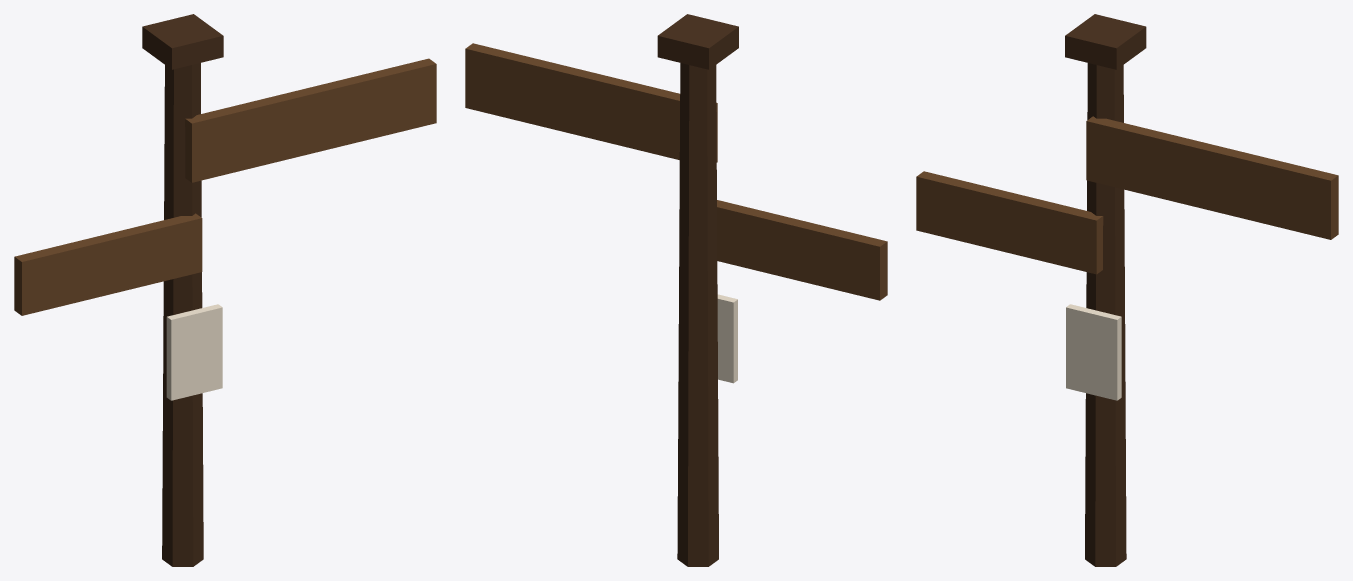
Rendered from prop_signpost.glb.
3 renders of one model, left to right at view 1: azimuth 30°, elevation 25°; view 2: azimuth 150°, elevation 25°; view 3: azimuth 330°, elevation 25°, orthographic.
Parts seen in each view (by area): view 1: prop_signpost; view 2: prop_signpost; view 3: prop_signpost.
Part boxes in pixels (bbox=[...]): prop_signpost: bbox=[14, 14, 436, 566]; prop_signpost: bbox=[465, 14, 887, 566]; prop_signpost: bbox=[916, 14, 1338, 566].
Size of the model in its own units: 1.61 by 1.96 by 0.2.
